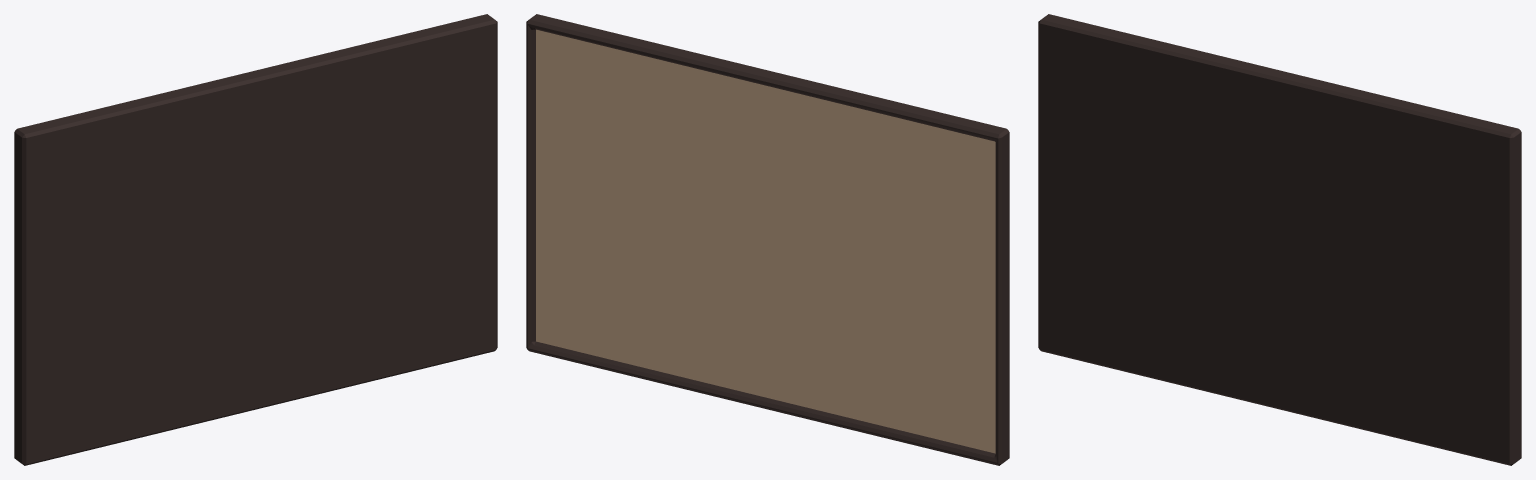
File: Pinwand.fbx
3 renders of one model, left to right at view 1: azimuth 30°, elevation 25°; view 2: azimuth 150°, elevation 25°; view 3: azimuth 330°, elevation 25°, orthographic.
Parts seen in each view (by area): view 1: Pinnwand; view 2: Pinnwand; view 3: Pinnwand.
Boxes of the visible parts, box(x1,y1,x2,y2) form: Pinnwand: box(14, 14, 497, 465); Pinnwand: box(526, 14, 1009, 465); Pinnwand: box(1038, 14, 1521, 465).
Bounding box in the file's own units: 121 × 80.67 × 4.68.
